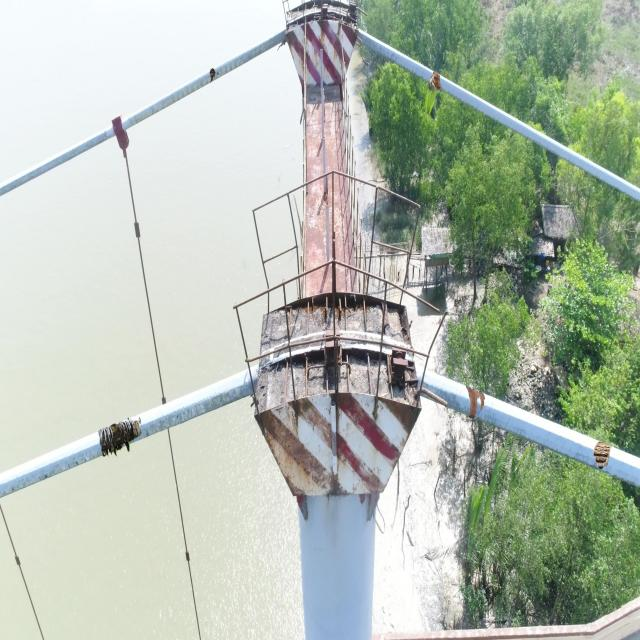corrosion: (97, 414, 142, 458), (464, 386, 486, 419), (593, 441, 612, 470), (429, 71, 441, 92), (210, 67, 216, 82)
